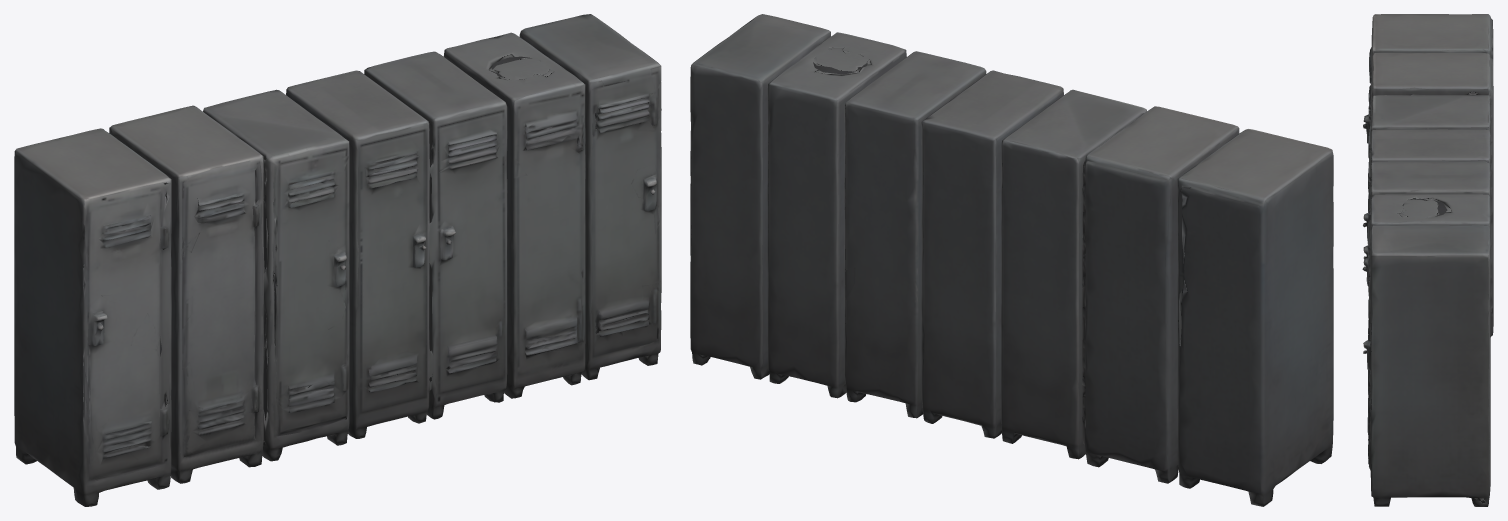
File: smalllectureroom_StudentLockers.glb
The picture shows the model from 3 angles, left to right: view 1: azimuth 30°, elevation 25°; view 2: azimuth 150°, elevation 25°; view 3: azimuth 270°, elevation 25°; orthographic projection. The views are drawn at different scales.
Visible parts, largest first — view 1: world; view 2: world; view 3: world.
Boxes of the visible parts, bbox=[...] form: world: bbox=[14, 14, 661, 506]; world: bbox=[690, 14, 1333, 506]; world: bbox=[1362, 14, 1493, 506].
Size of the model in its own units: 1 by 0.5145 by 0.2338.
1 material, 1 textured.
